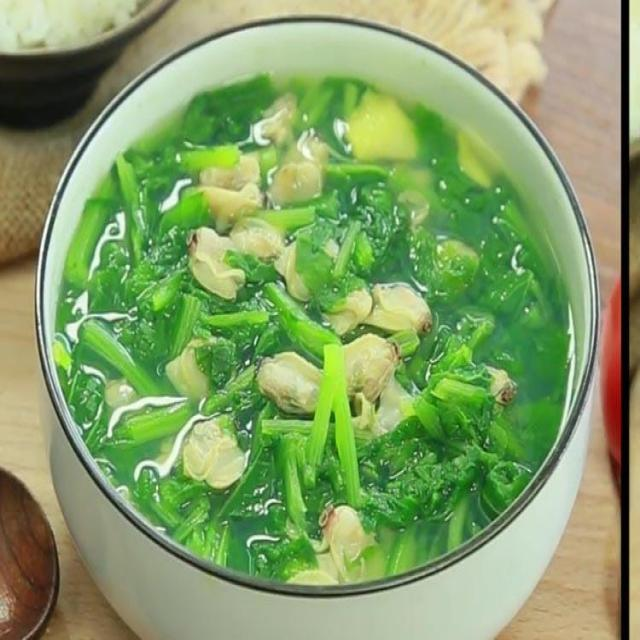canh cai: (51, 76, 571, 585)
